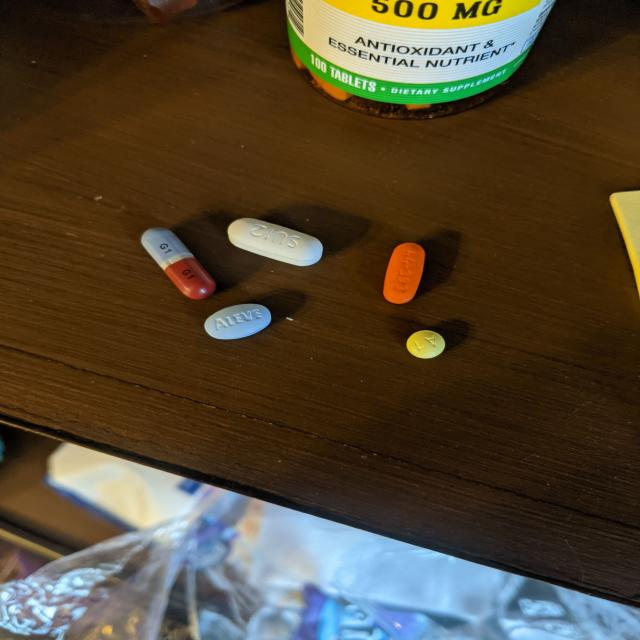non-organic waste: (140, 226, 217, 301), (227, 216, 324, 268), (382, 241, 427, 305), (203, 302, 273, 340), (406, 329, 446, 359)
